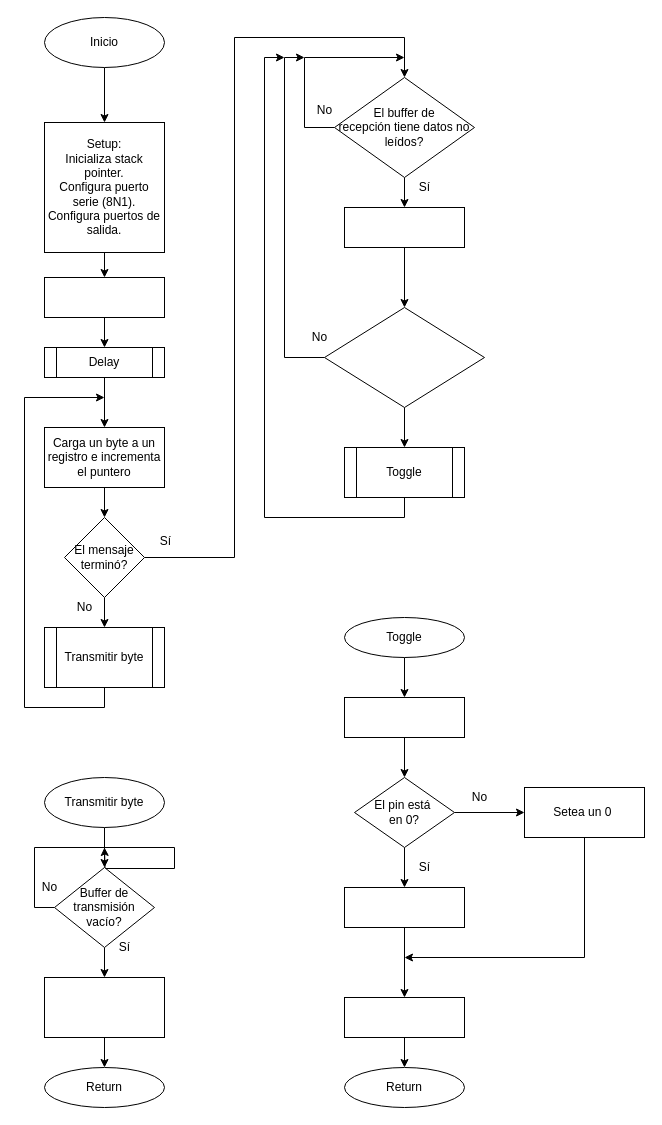
This 662x1125 diagram has some shape labels left out. The shapes that lost their labels are listed below. From the top down, each one's centre as x and y in pixels, then its label:
point 404,227: Lee datos del buffer
point 104,297: Carga el puntero al mensaje.
point 404,357: El caracter recibido es uno de los esperados?
point 404,717: Lee puerto C
point 404,907: Setea un 1
point 104,1007: Envía byte al puerto serie
point 404,1017: Escribe puerto C
